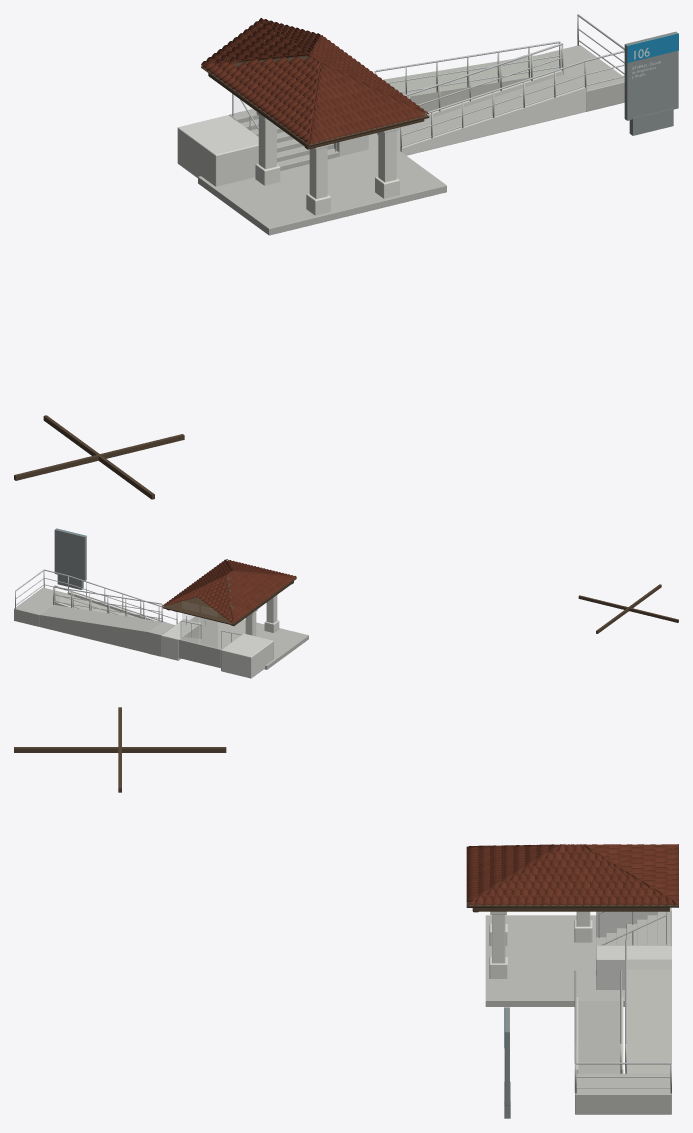
The model's file is entrada.glb.
The picture shows the model from 3 angles, top to bottom: view 1: azimuth 30°, elevation 25°; view 2: azimuth 150°, elevation 25°; view 3: azimuth 270°, elevation 25°; orthographic projection. The views are drawn at different scales.
Visible parts, largest first — view 1: Pale cast concrete — entrance, Pale cast concrete — entrance slab, Fresh cream trim, Warm lime-painted plaster, 106 sign grey, Galvanized guardrail, Dark stained roof timber, Clay terracotta 04, Clay terracotta 03, Clay terracotta 02, Clay terracotta 06, Clay terracotta 07 (+5 smaller); view 2: Pale cast concrete — entrance, Warm lime-painted plaster, Pale cast concrete — entrance slab, Dark stained roof timber, 106 sign grey, Galvanized guardrail, Window glass, Fresh cream trim, Clay terracotta 04, Clay terracotta 02, Clay terracotta 07, Clay terracotta 08 (+5 smaller); view 3: Pale cast concrete — entrance, Pale cast concrete — entrance slab, Dark stained roof timber, Warm lime-painted plaster, Clay terracotta 03, Fresh cream trim, Clay terracotta 05, Galvanized guardrail, Clay terracotta 02, Clay terracotta 07, Clay terracotta 06, Clay terracotta 01 (+4 smaller).
Boxes of the visible parts, x1,y1,x2,y2 form: Pale cast concrete — entrance: (229, 42, 624, 170); Pale cast concrete — entrance slab: (198, 133, 446, 235); Fresh cream trim: (255, 48, 660, 215); Warm lime-painted plaster: (177, 115, 368, 186); 106 sign grey: (624, 31, 678, 135); Galvanized guardrail: (232, 14, 624, 151); Dark stained roof timber: (14, 55, 429, 499); Clay terracotta 04: (215, 22, 392, 135); Clay terracotta 03: (236, 18, 415, 135); Clay terracotta 02: (211, 23, 420, 133); Clay terracotta 06: (201, 23, 424, 143); Clay terracotta 07: (201, 20, 424, 130); Pale cast concrete — entrance: (14, 576, 227, 668); Warm lime-painted plaster: (161, 619, 273, 678); Pale cast concrete — entrance slab: (190, 616, 308, 669); Dark stained roof timber: (162, 576, 678, 633); 106 sign grey: (54, 528, 86, 589); Galvanized guardrail: (15, 569, 241, 648); Window glass: (182, 601, 217, 647); Fresh cream trim: (54, 591, 279, 636); Clay terracotta 04: (172, 564, 289, 616); Clay terracotta 02: (171, 561, 288, 619); Clay terracotta 07: (171, 560, 281, 623); Clay terracotta 08: (168, 559, 291, 621); Pale cast concrete — entrance: (575, 911, 671, 1114); Pale cast concrete — entrance slab: (485, 915, 624, 1006); Dark stained roof timber: (14, 707, 678, 912); Warm lime-painted plaster: (596, 907, 671, 989); Clay terracotta 03: (466, 844, 678, 905); Fresh cream trim: (489, 911, 623, 1092); Clay terracotta 05: (466, 844, 678, 905); Galvanized guardrail: (574, 911, 671, 1093); Clay terracotta 02: (466, 844, 678, 905); Clay terracotta 07: (466, 844, 678, 905); Clay terracotta 06: (466, 844, 678, 905); Clay terracotta 01: (466, 844, 678, 905).
Size of the model in its own units: 27.53 by 3.8 by 18.8.
